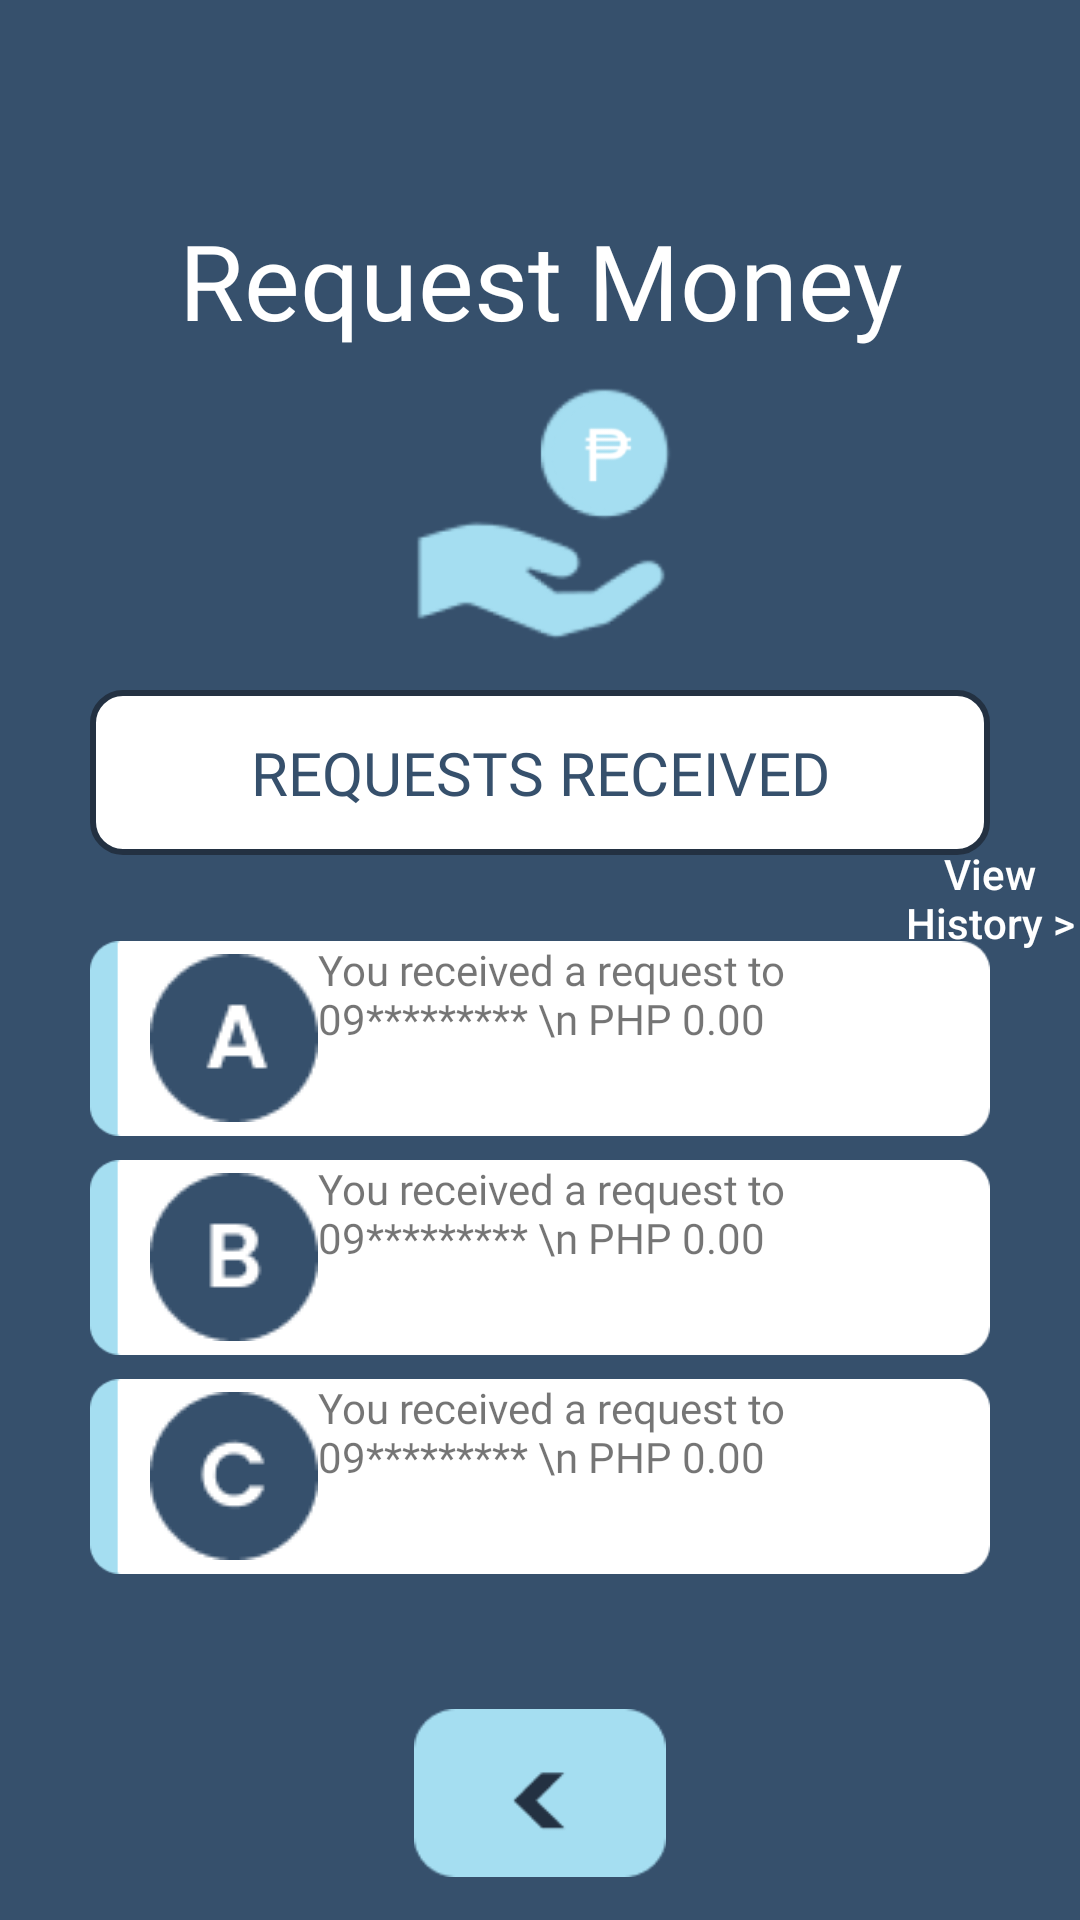

Where icons sit on this 1080×1920 app screen, as Rect(x1, y1, x2, y2):
backicon: Rect(414, 1709, 666, 1877)
